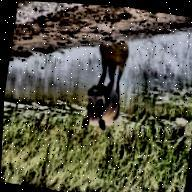boar: (79, 64, 126, 136)
